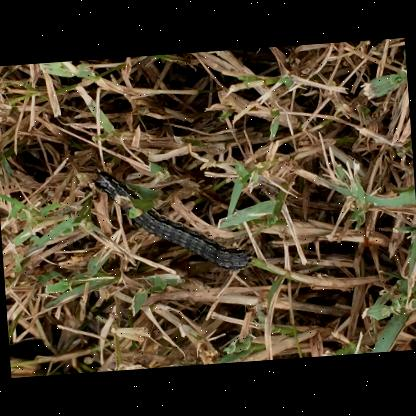Fall Armyworm Larvae: (90, 159, 254, 282)
